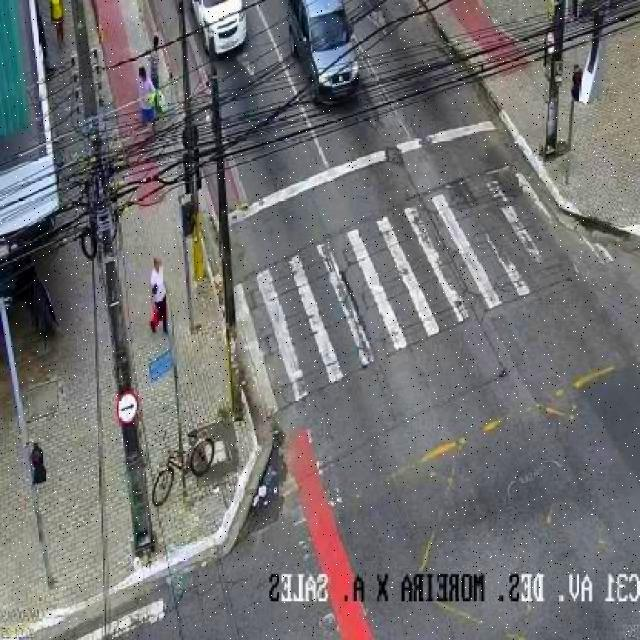Car: (283, 0, 370, 114), (193, 0, 252, 62)
Cycle: (142, 431, 217, 514)
